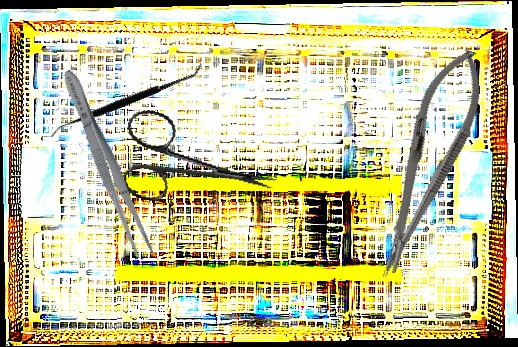Dressing Forceps: (55, 66, 158, 260)
Iris Scissors: (113, 106, 286, 226)
Needle Holder: (362, 40, 497, 282)
Spatula Surgical: (48, 15, 204, 185)
Surgical Spoon: (381, 126, 427, 279)
